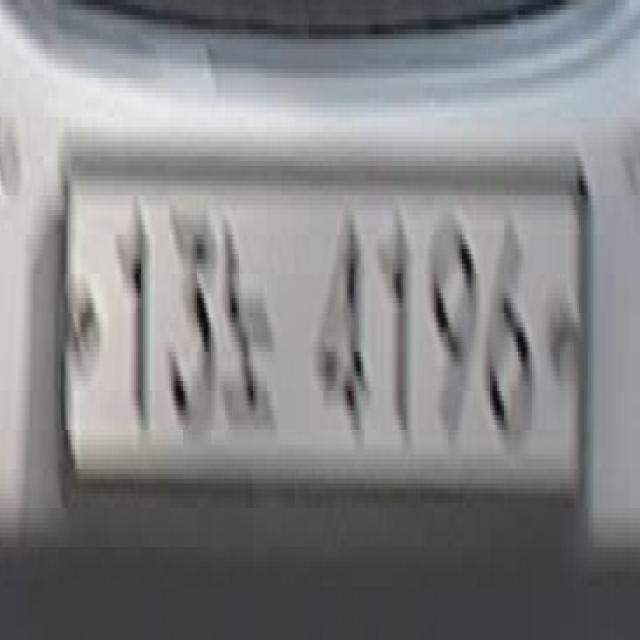1: (368, 200, 422, 460), (112, 200, 158, 445)
3: (162, 205, 216, 445)
4: (314, 210, 371, 450)
6: (482, 205, 542, 464)
9: (424, 200, 483, 454)
license_plate: (52, 117, 598, 528)
no: (216, 196, 283, 460)
